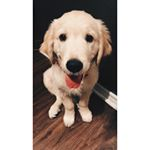puppy: (38, 5, 115, 131)
